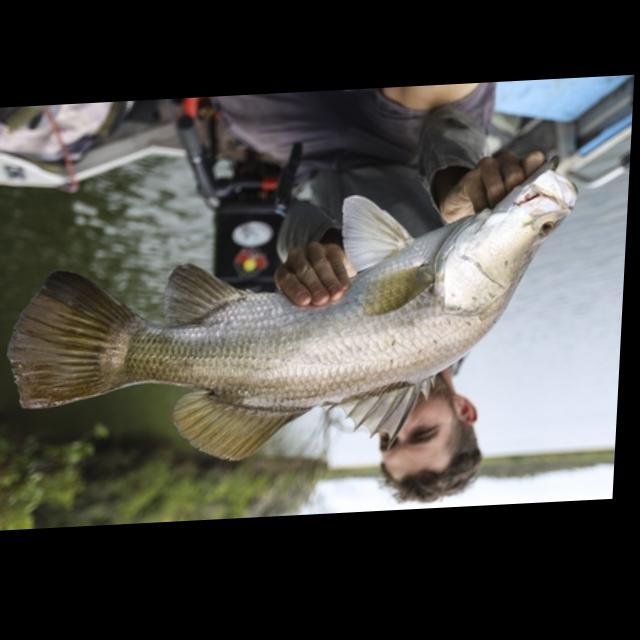Seabass: (1, 166, 578, 475)
